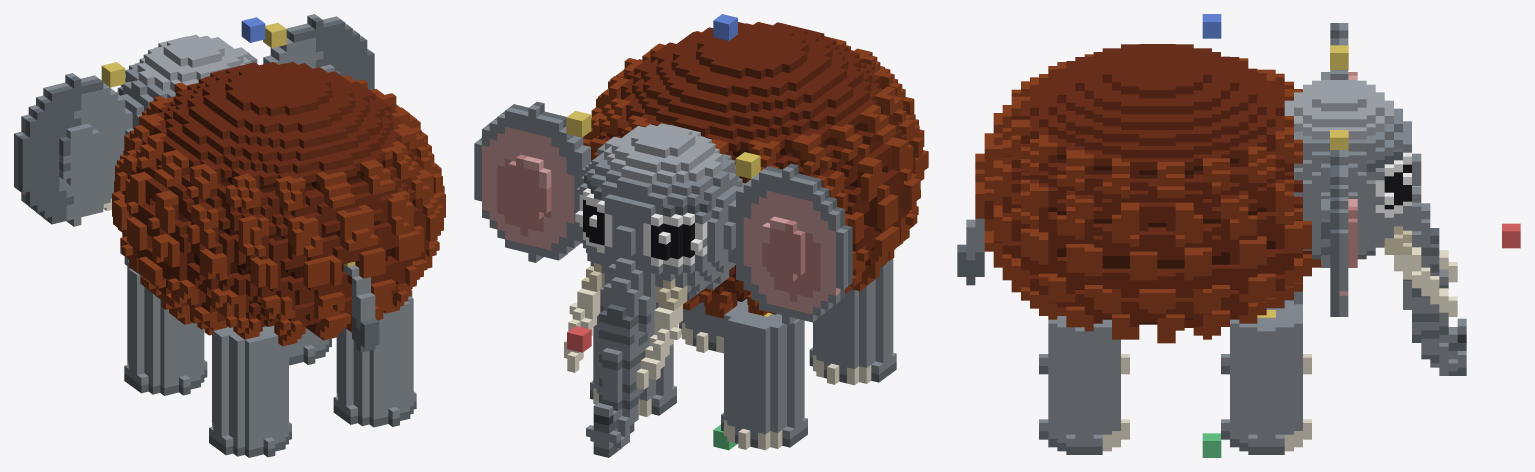
The model's file is CocofantoElefanto.glb.
3 renders of one model, left to right at view 1: azimuth 30°, elevation 25°; view 2: azimuth 150°, elevation 25°; view 3: azimuth 270°, elevation 25°, orthographic. The views are drawn at different scales.
Visible parts, largest first — view 1: CocofantoElefanto_Body, CocofantoElefanto_Ear8, CocofantoElefanto_Leg4, CocofantoElefanto_Leg3, CocofantoElefanto_Leg2, CocofantoElefanto_Head6, CocofantoElefanto_Ear7, CocofantoElefanto_Tail5, CocofantoElefanto_Leg1, CocofantoElefanto_Top, CocofantoElefanto_Pivot8, CocofantoElefanto_Pivot7; view 2: CocofantoElefanto_Body, CocofantoElefanto_Head6, CocofantoElefanto_Ear8, CocofantoElefanto_Ear7, CocofantoElefanto_Leg2, CocofantoElefanto_Leg4, CocofantoElefanto_Leg1, CocofantoElefanto_Leg3, CocofantoElefanto_Pivot7, CocofantoElefanto_Pivot8, CocofantoElefanto_Top, CocofantoElefanto_Front; view 3: CocofantoElefanto_Body, CocofantoElefanto_Head6, CocofantoElefanto_Leg1, CocofantoElefanto_Leg3, CocofantoElefanto_Ear7, CocofantoElefanto_Tail5, CocofantoElefanto_Ear8.
Part boxes in pixels (bbox=[...]): CocofantoElefanto_Body: bbox=[112, 62, 445, 346]; CocofantoElefanto_Ear8: bbox=[14, 73, 132, 226]; CocofantoElefanto_Leg4: bbox=[209, 325, 291, 457]; CocofantoElefanto_Leg3: bbox=[333, 290, 416, 427]; CocofantoElefanto_Leg2: bbox=[124, 260, 207, 395]; CocofantoElefanto_Head6: bbox=[103, 34, 257, 265]; CocofantoElefanto_Ear7: bbox=[263, 14, 374, 89]; CocofantoElefanto_Tail5: bbox=[343, 264, 379, 352]; CocofantoElefanto_Leg1: bbox=[289, 328, 331, 365]; CocofantoElefanto_Top: bbox=[241, 17, 265, 42]; CocofantoElefanto_Pivot8: bbox=[101, 62, 125, 87]; CocofantoElefanto_Pivot7: bbox=[263, 22, 286, 48]; CocofantoElefanto_Body: bbox=[583, 22, 928, 318]; CocofantoElefanto_Head6: bbox=[564, 123, 744, 457]; CocofantoElefanto_Ear8: bbox=[728, 163, 852, 324]; CocofantoElefanto_Ear7: bbox=[474, 101, 590, 262]; CocofantoElefanto_Leg2: bbox=[721, 299, 807, 450]; CocofantoElefanto_Leg4: bbox=[809, 258, 896, 385]; CocofantoElefanto_Leg1: bbox=[590, 302, 676, 416]; CocofantoElefanto_Leg3: bbox=[679, 302, 723, 353]; CocofantoElefanto_Pivot7: bbox=[566, 110, 591, 137]; CocofantoElefanto_Pivot8: bbox=[735, 152, 760, 178]; CocofantoElefanto_Top: bbox=[713, 14, 737, 40]; CocofantoElefanto_Front: bbox=[567, 326, 591, 352]; CocofantoElefanto_Body: bbox=[975, 44, 1320, 343]; CocofantoElefanto_Head6: bbox=[1284, 80, 1466, 375]; CocofantoElefanto_Leg1: bbox=[1221, 300, 1311, 454]; CocofantoElefanto_Leg3: bbox=[1039, 316, 1129, 454]; CocofantoElefanto_Ear7: bbox=[1321, 150, 1357, 316]; CocofantoElefanto_Tail5: bbox=[957, 218, 984, 285]; CocofantoElefanto_Ear8: bbox=[1321, 23, 1357, 79].
Bounding box in the file's own units: 5.85 × 6.45 × 7.55.
Materials: 1 (1 with a texture image).
